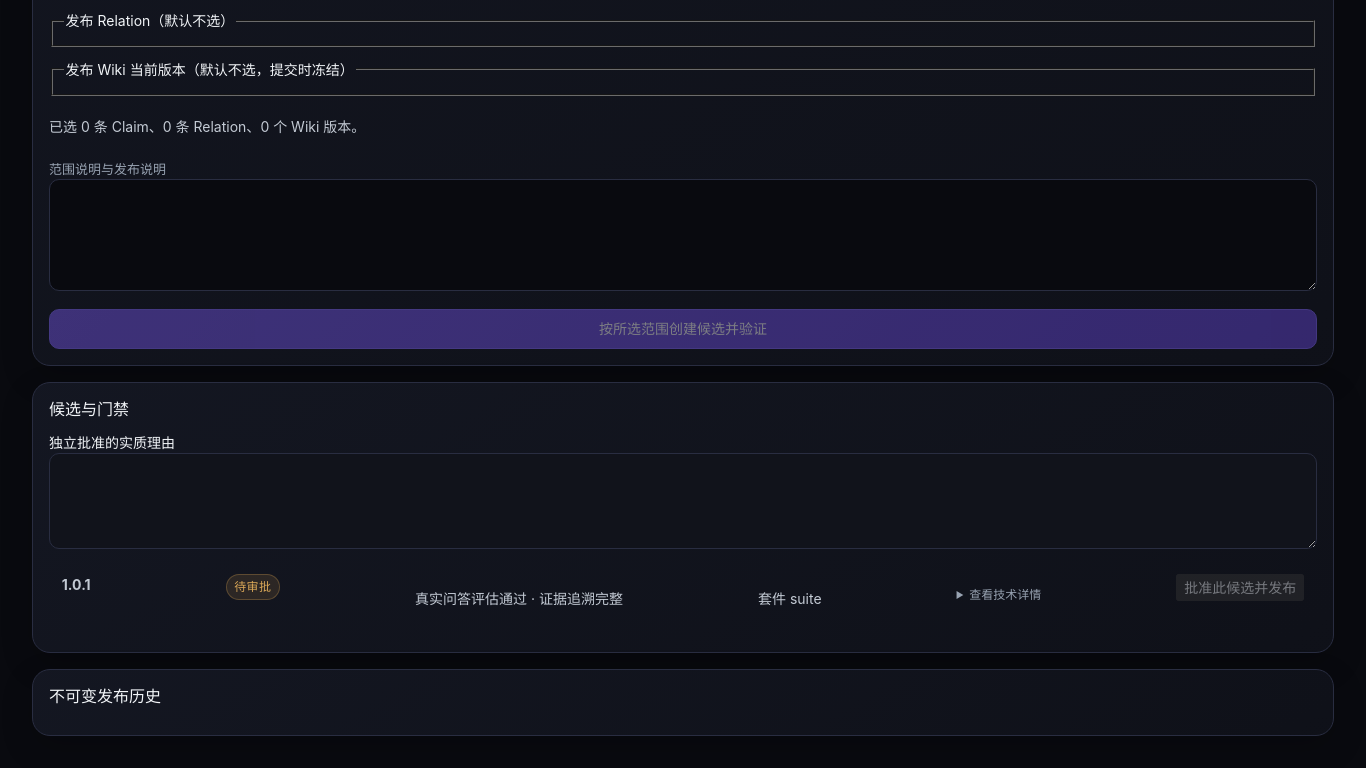
Test: configuration failure does not hide a publisher's pending candidate
The width and height of the screenshot is (1366, 768).
(page scrolled)
Check: the text "1.0.1" is shown, box [62,574,91,595]
In the text box labelled "独立批准的实质理由": (683, 501) [49,453,1317,549], type "Checked the fixed candidate and actual evaluation"
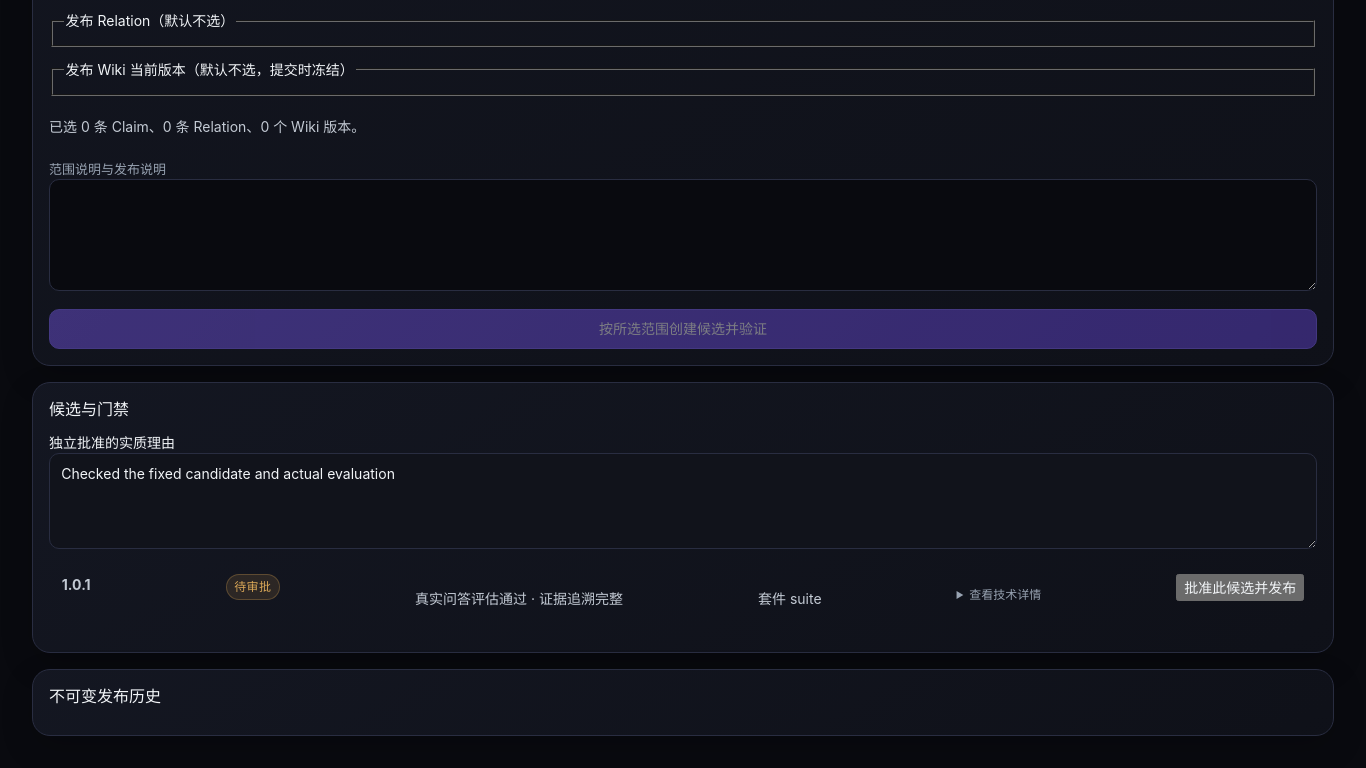
Check: the button "批准此候选并发布" is enabled, box [1176,574,1304,601]
